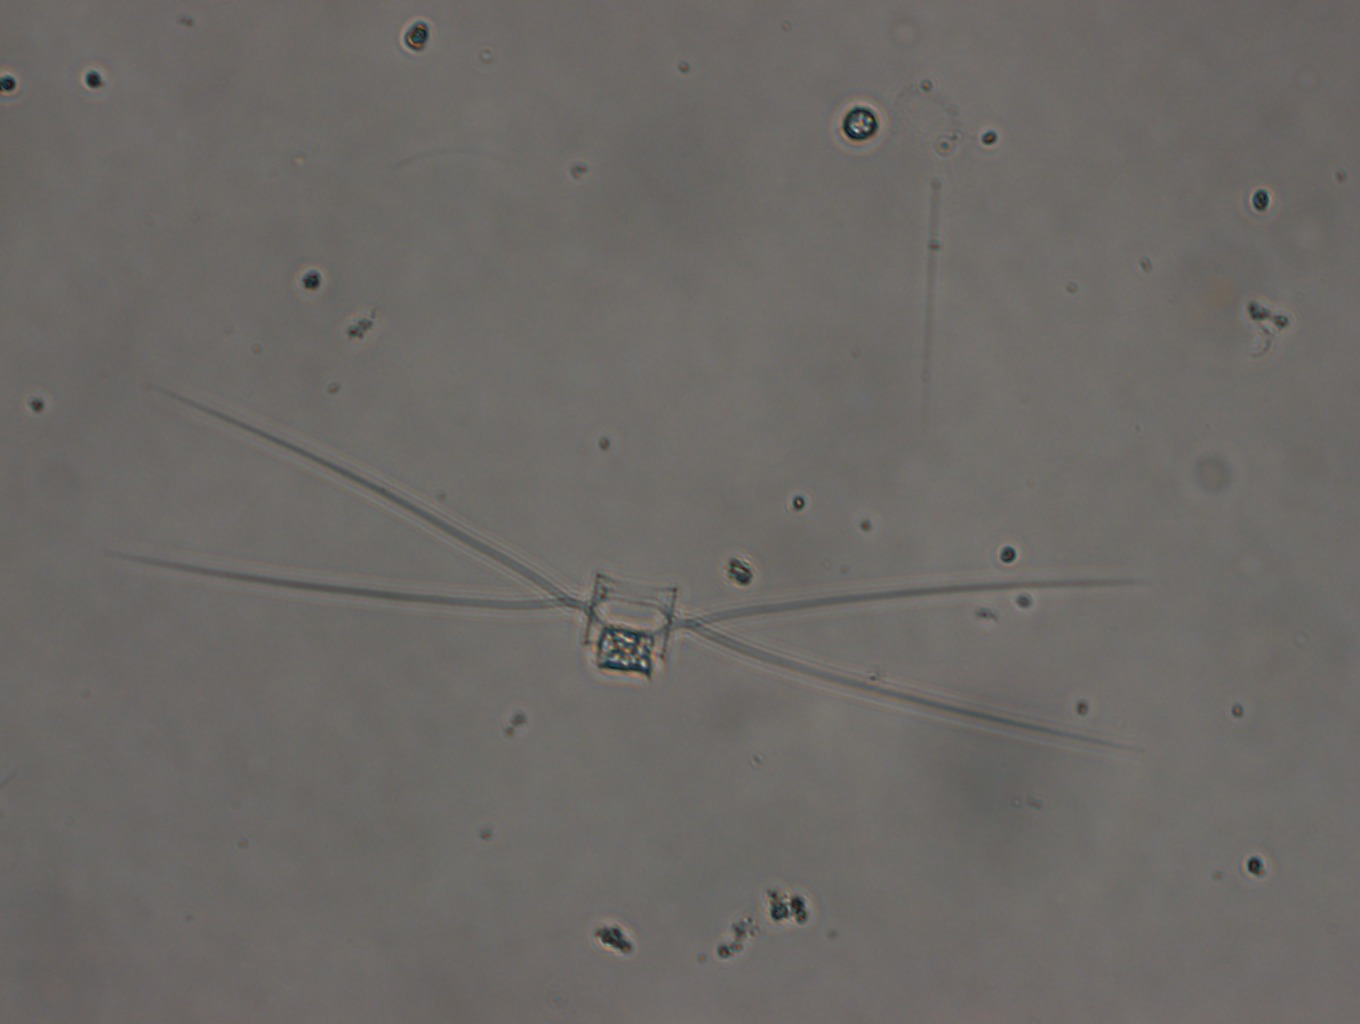chaetoceros: (138, 364, 1153, 759)
